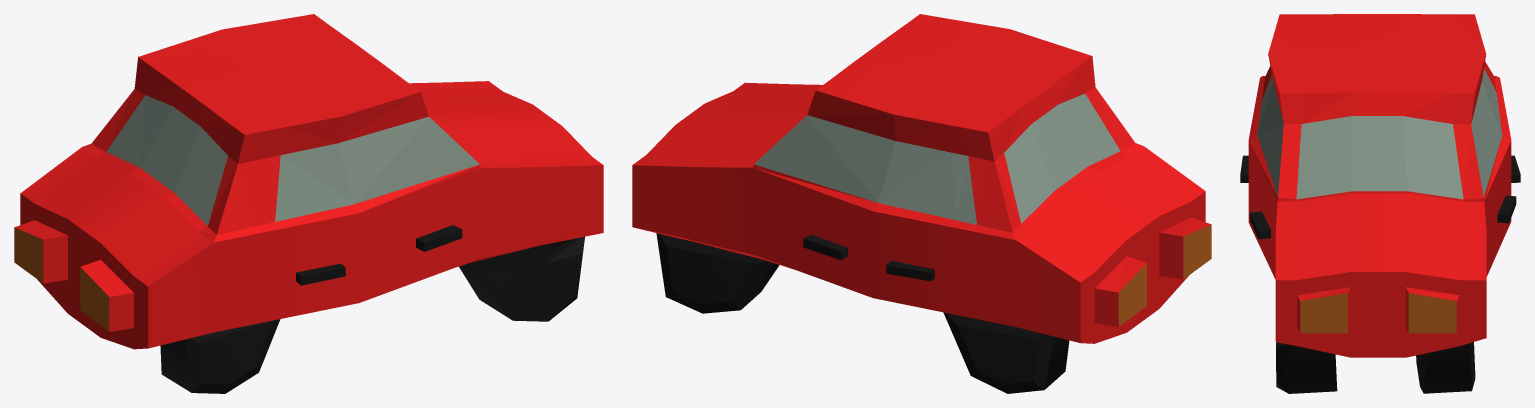
File: ShittyCar2.FBX
The picture shows the model from 3 angles, left to right: view 1: azimuth 30°, elevation 25°; view 2: azimuth 150°, elevation 25°; view 3: azimuth 270°, elevation 25°; orthographic projection. The views are drawn at different scales.
Visible parts, largest first — view 1: Cylinder001; view 2: Cylinder001; view 3: Cylinder001.
Boxes of the visible parts, <box> form: Cylinder001: <box>14,14,603,393</box>; Cylinder001: <box>632,14,1211,393</box>; Cylinder001: <box>1240,14,1520,393</box>.
Size of the model in its own units: 2.19 by 1.11 by 1.17.
